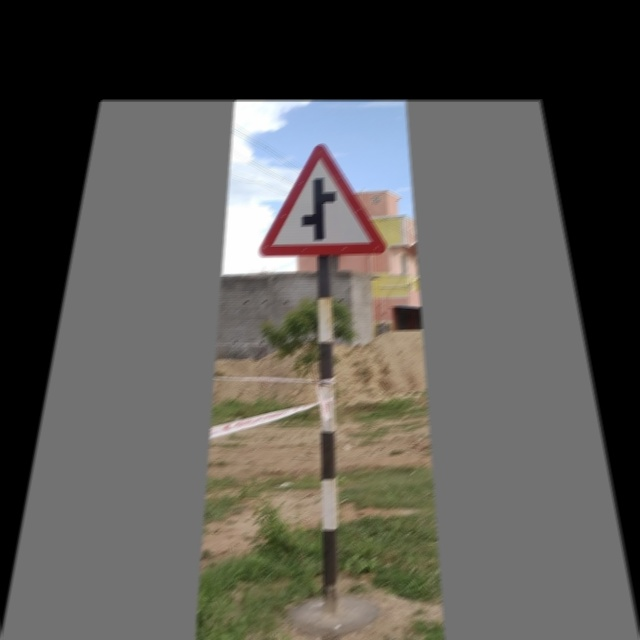Staggered_Intersection: (258, 138, 390, 262)
